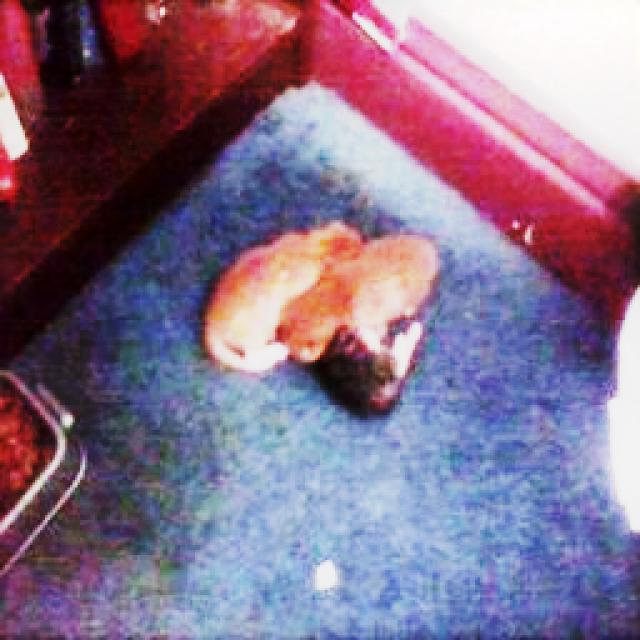cat: (201, 214, 350, 378), (272, 233, 443, 365), (322, 319, 428, 412)
